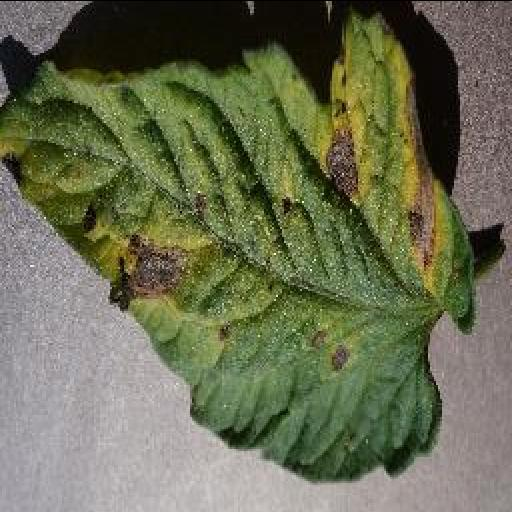disease_tomato: (0, 6, 476, 486)
